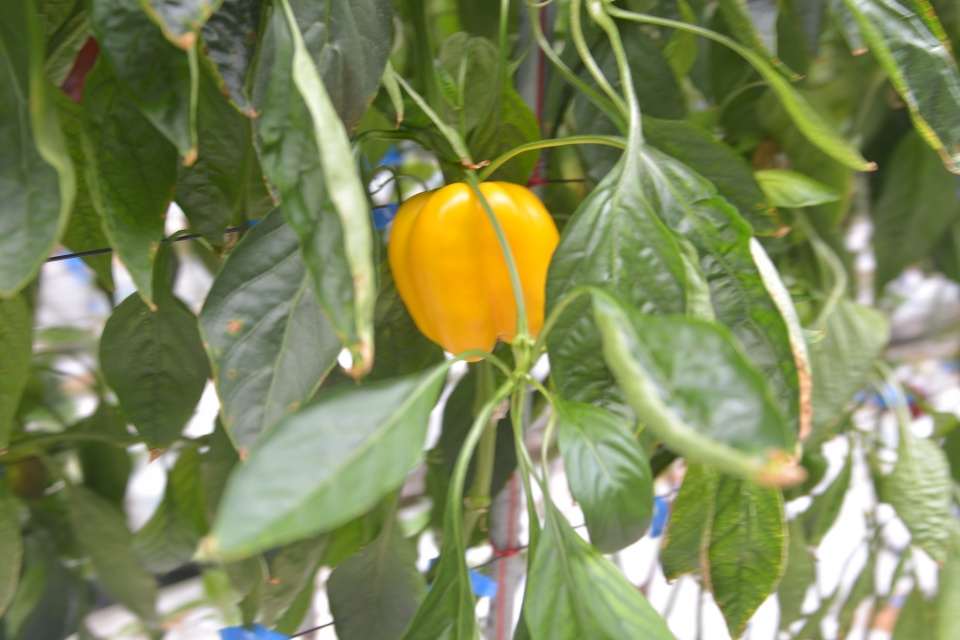fruit: (386, 178, 560, 365)
